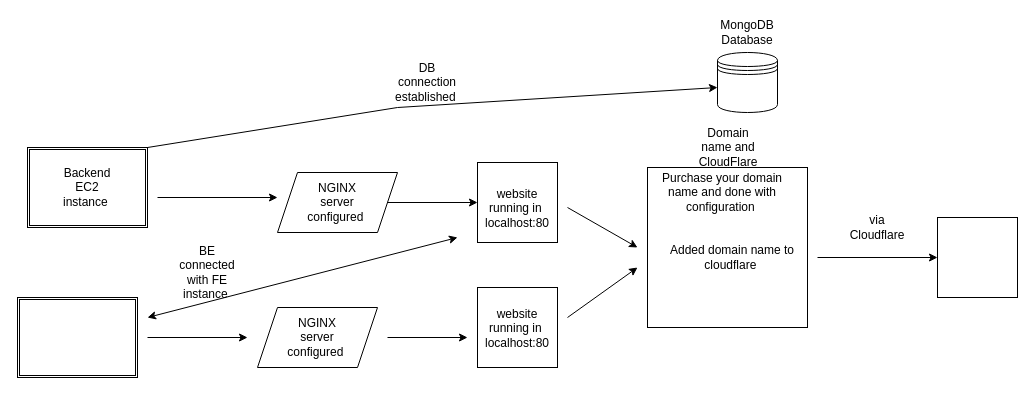
The diagram is 1035 pixels wide and 395 high, and some of its shapes have lost their labels. Here are the shapes that lost their labels. From the top down, the centre of each, then its label:
[747,82]: DB runs in port 3000
[977,257]: website running in your domain name
[77,337]: Frontend EC2 instance
